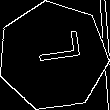L_W: (26, 37, 81, 75)
